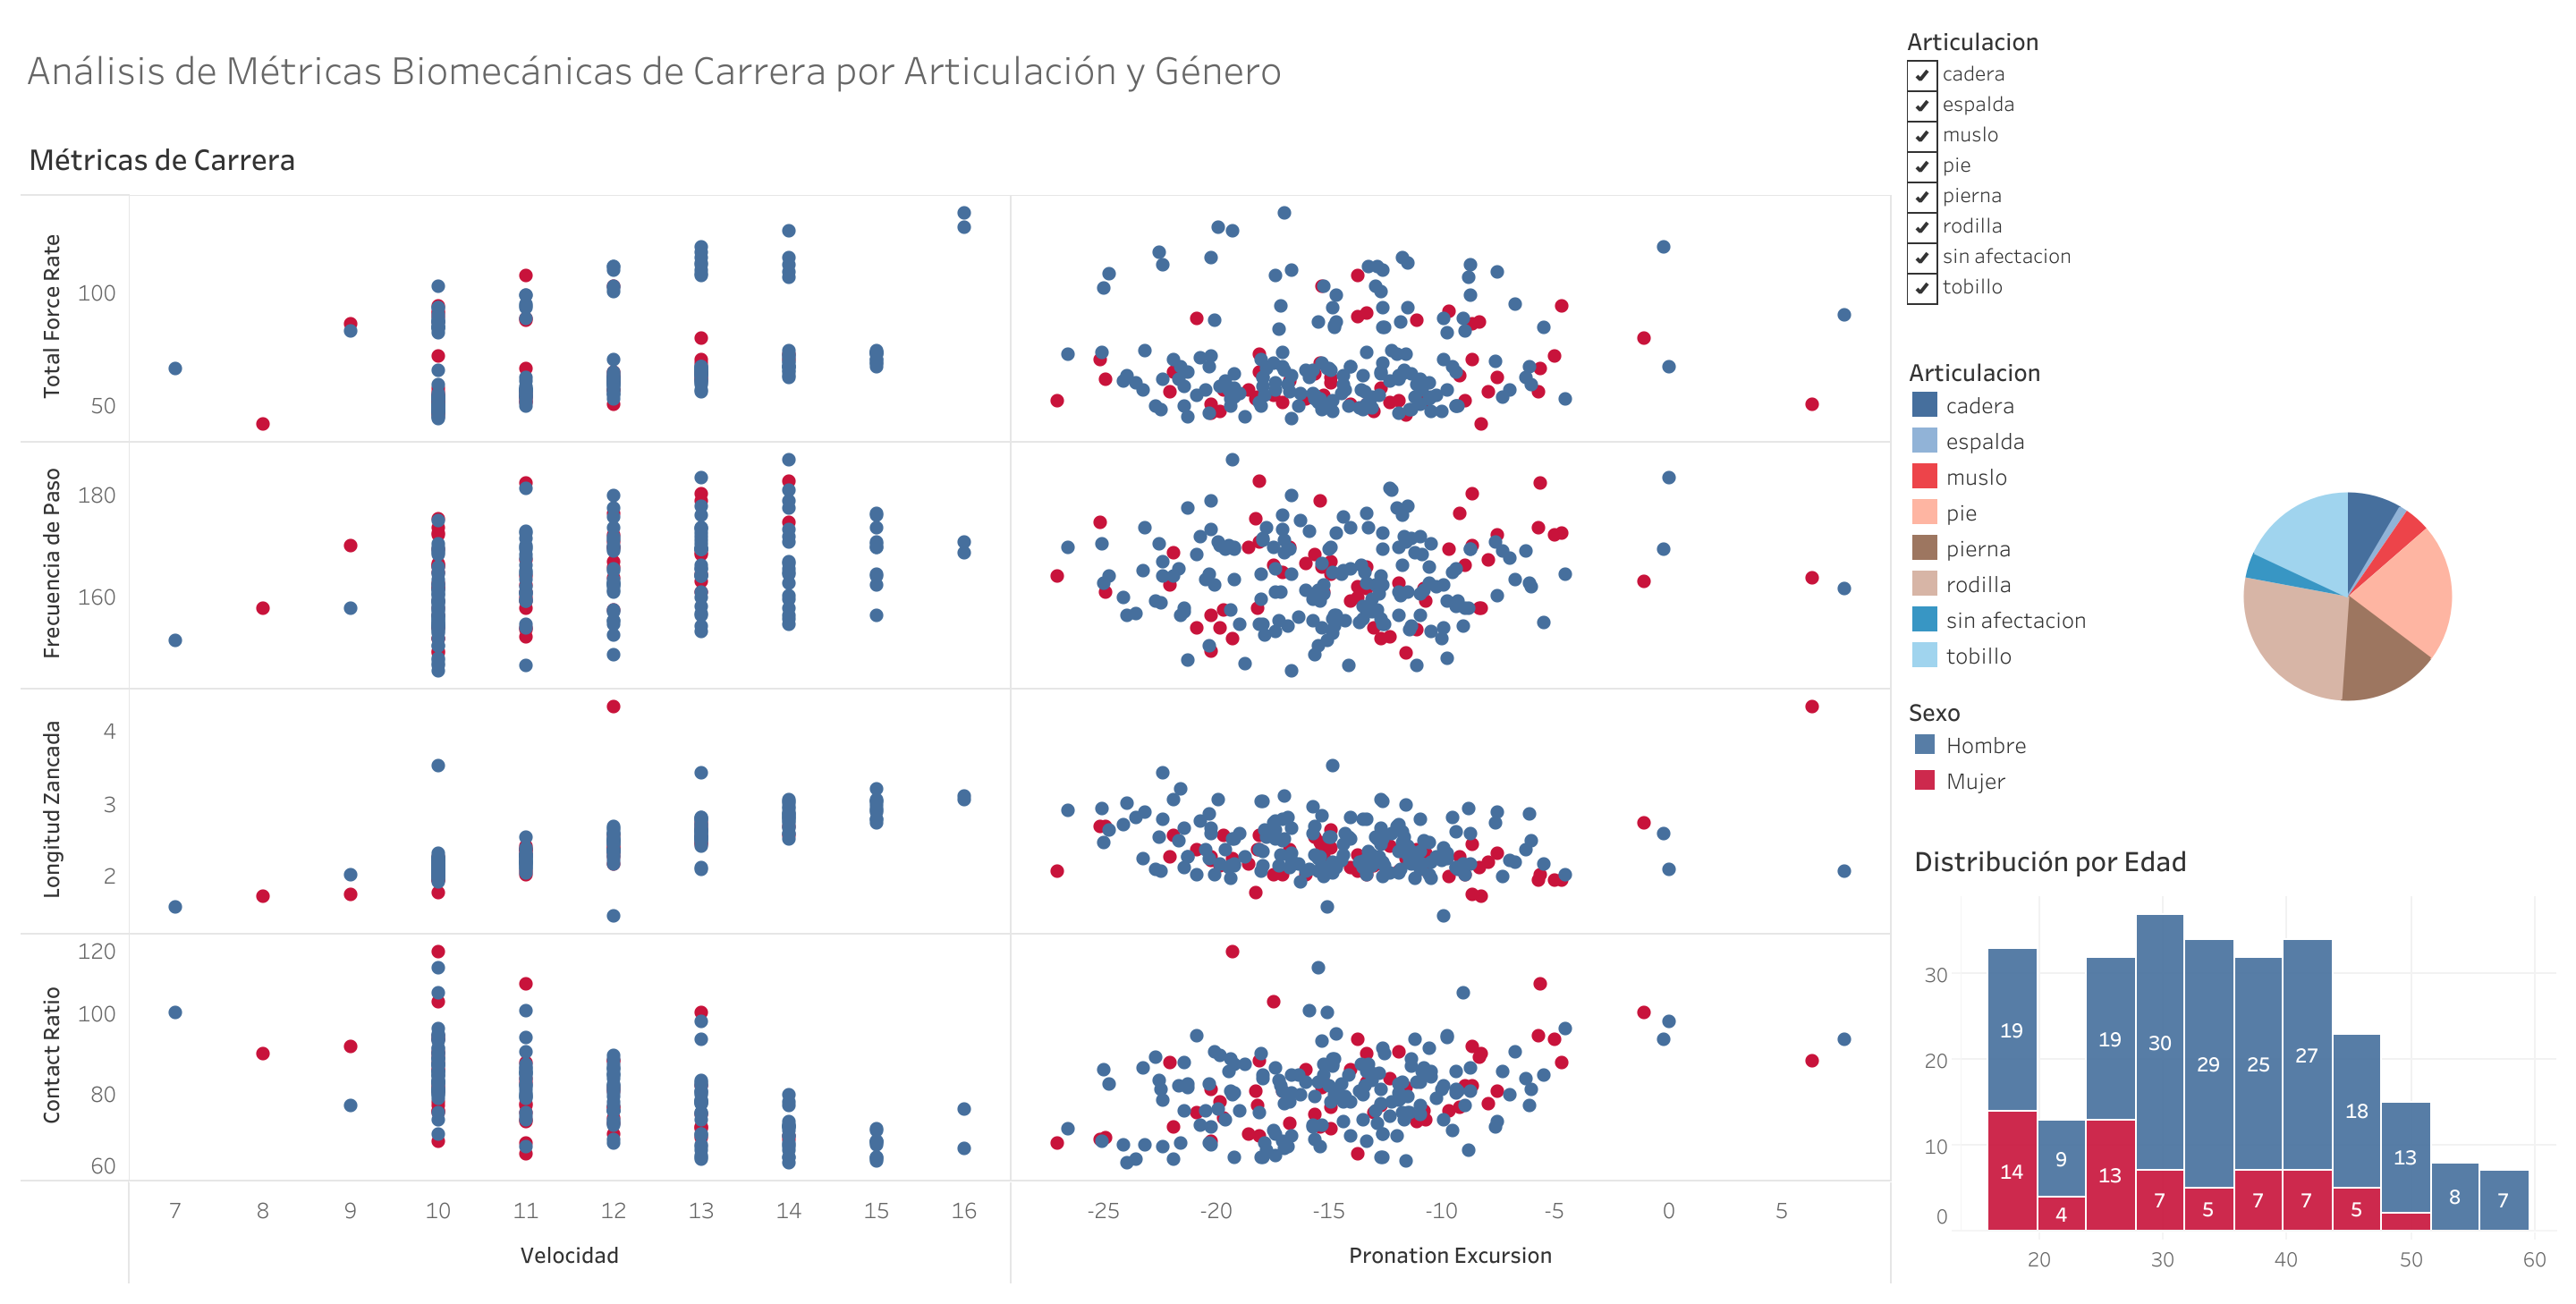

The page's visual inventory and layout, read from the dashboard file:
{"tool":"tableau","page":{"name":"Dashboard 1","canvas":[1000,1000],"units":"permille","ordinal":0},"visuals":[{"type":"text","box":[5.3,10.5,732.1,81.2]},{"type":"filter","title":"Biomecánica ","param":"[federated.0e79fkm0fy4ljz148l35z0kd0s58].[none:articulacion:nk]","box":[737.5,10.5,257.2,252.9]},{"type":"worksheet","title":"Biomecánica ","mark":"Circle","rows":["total_force_rate_run","step_rate_run","stride_length_run","contact_ratio_run"],"cols":["velocidad_run","pronation_excursion_run"],"box":[5.3,91.7,732.1,897.8]},{"type":"legend","title":"Distribución por articulación","param":"[federated.0e79fkm0fy4ljz148l35z0kd0s58].[none:articulacion:nk]","box":[737.5,263.4,89.6,259.5]},{"type":"worksheet","title":"Distribución por articulación","mark":"Pie","box":[827,263.4,167.7,367]},{"type":"legend","title":"Demográficos","param":"[federated.0e79fkm0fy4ljz148l35z0kd0s58].[none:sexo:nk]","box":[737.5,522.9,89.6,107.5]},{"type":"worksheet","title":"Demográficos","mark":"Automatic","rows":["edad"],"cols":["Edad (agrupación)"],"box":[737.5,630.4,257.2,359.1]}]}

Visuals, with their boxes on the dashboard's canvas, which has no fixed pixel size, in thousandths of its width and height (x1, y1, x2, y2). These are canvas units, not pixel positions in the 2576x1304 screenshot, which may show the page scaled, cropped or inside an application window:
text: select_region(5, 10, 737, 92)
"Biomecánica " filter: select_region(738, 10, 995, 263)
"Biomecánica " worksheet (Circle marks): select_region(5, 92, 737, 990)
"Distribución por articulación" legend: select_region(738, 263, 827, 523)
"Distribución por articulación" worksheet (Pie marks): select_region(827, 263, 995, 630)
"Demográficos" legend: select_region(738, 523, 827, 630)
"Demográficos" worksheet: select_region(738, 630, 995, 990)
